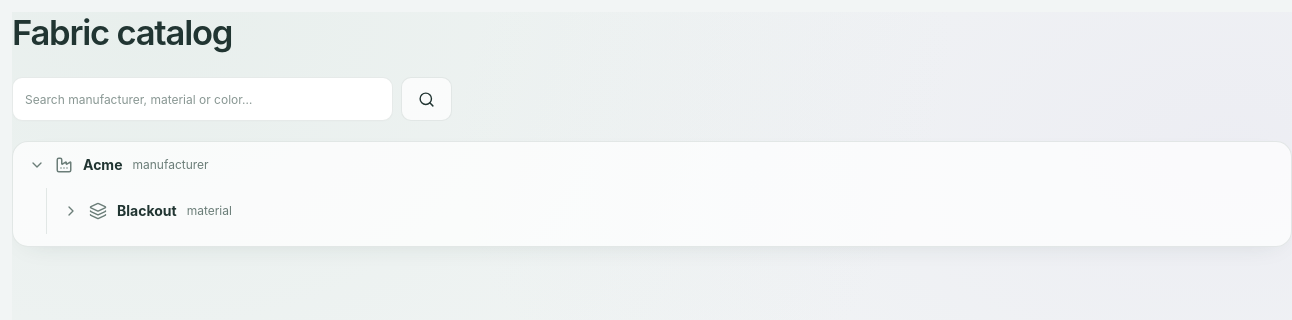
Scenario: allows employees to browse the hierarchy without management controls
This screenshot has width=1292, height=320.
What coordinates should you click on to do the following:
click the button "Blackout material"
I would click on:
 (147, 211)
Its box is [63,200,1259,222].
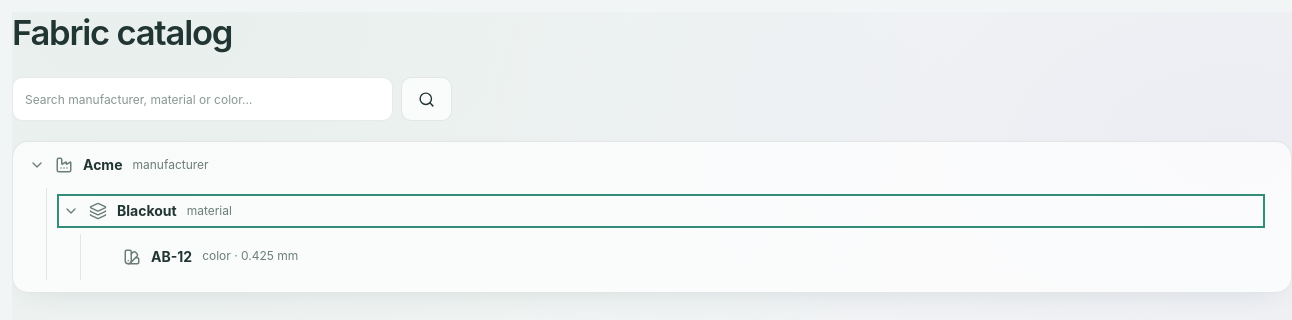
Check: the text "AB-12" is shown, box [151,246,192,268]
